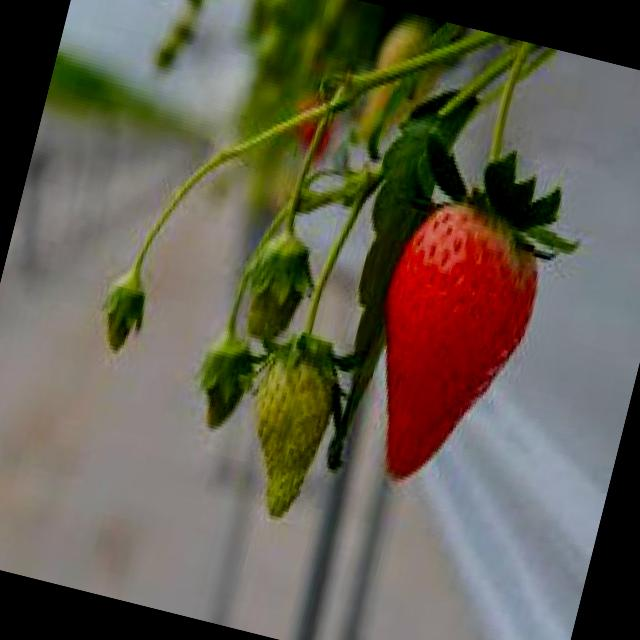Strawberry: (342, 184, 555, 502), (230, 331, 348, 529), (237, 234, 315, 348), (190, 336, 256, 436)
